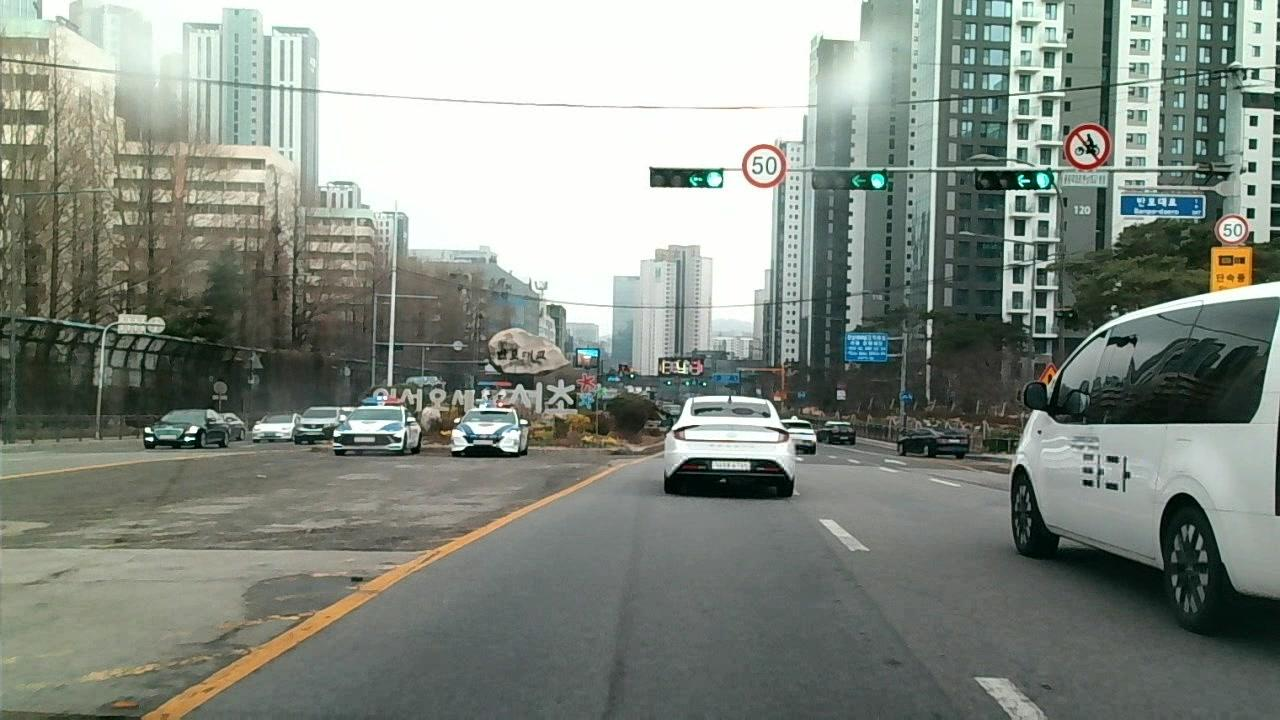erosion: (133, 565, 381, 720), (76, 458, 432, 548)
hcrack: (5, 543, 431, 557)
vcrack: (436, 469, 603, 544)
